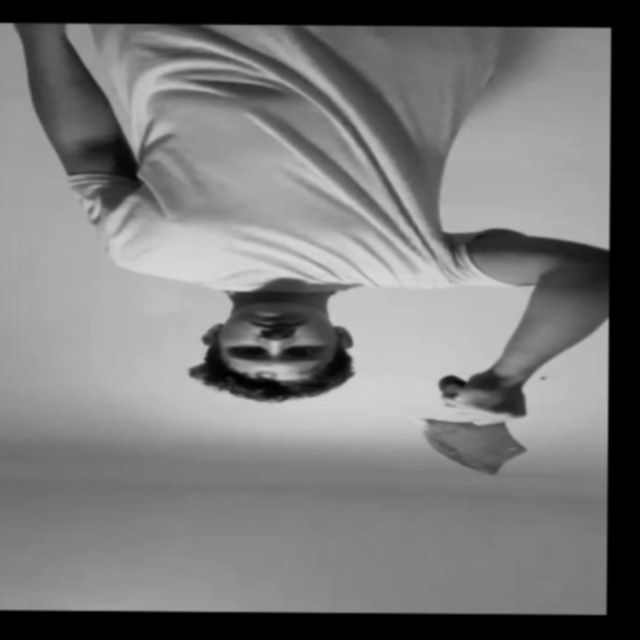Sharp-Object: (421, 419, 532, 477)
